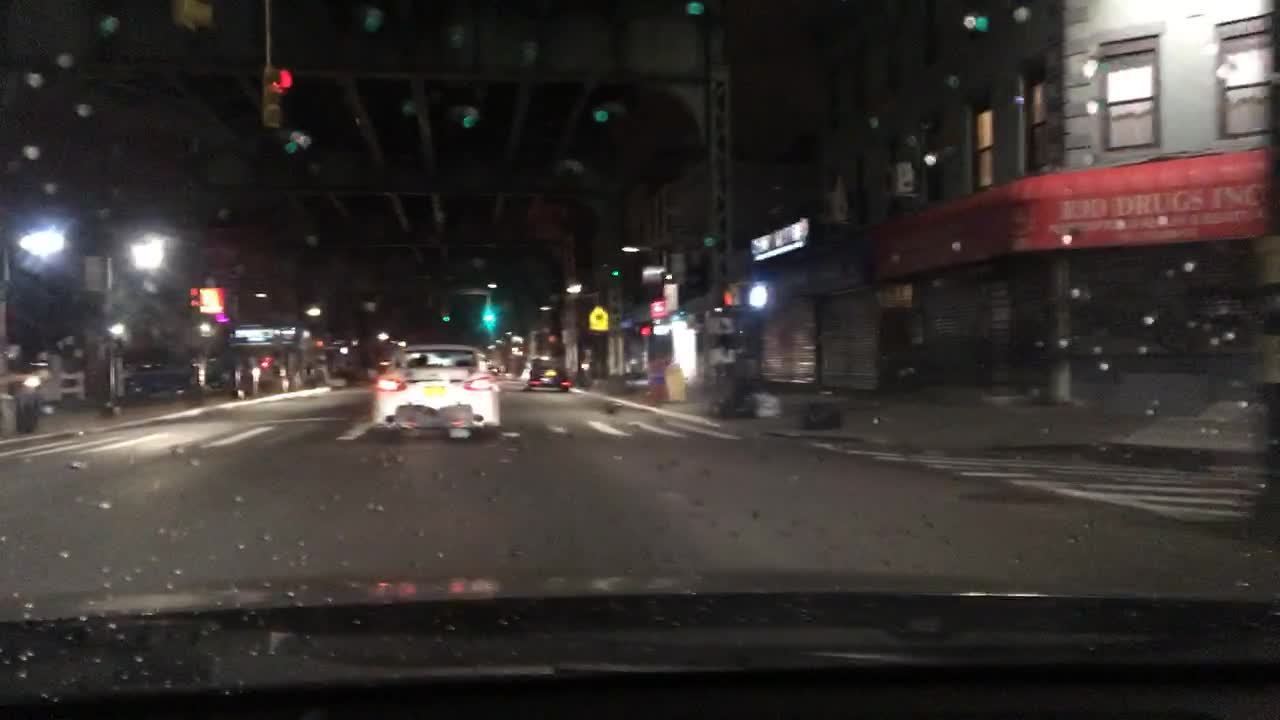car: (367, 344, 502, 437), (526, 357, 570, 392)
traffic light: (261, 67, 292, 129), (720, 283, 770, 310), (479, 302, 496, 331), (637, 321, 656, 341), (440, 302, 451, 321), (612, 259, 621, 280)
traffic sign: (83, 255, 112, 292), (588, 304, 610, 331)
